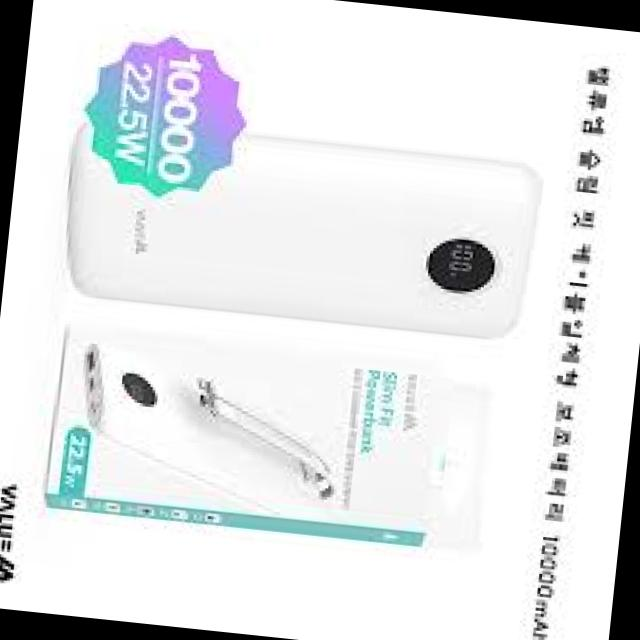power_bank: (57, 111, 546, 345), (74, 348, 351, 508)
